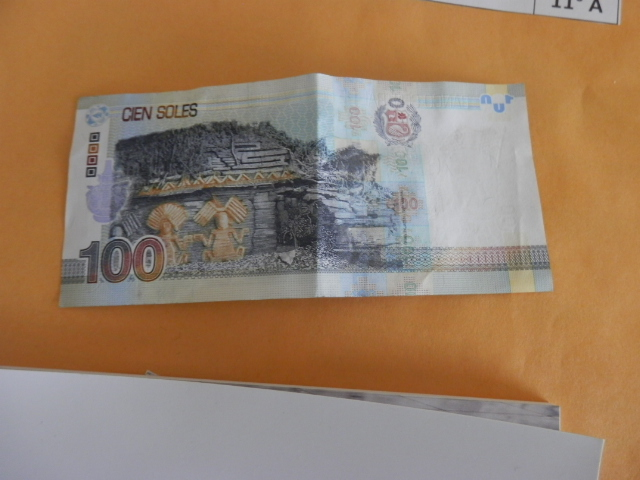B100: (65, 90, 547, 303)
